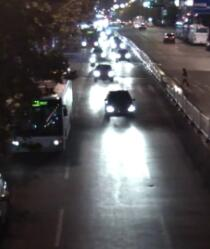bus: (6, 75, 74, 157), (78, 25, 101, 50), (184, 21, 206, 45)
car: (103, 88, 139, 121), (91, 61, 117, 83), (113, 46, 132, 62), (162, 31, 176, 43)
